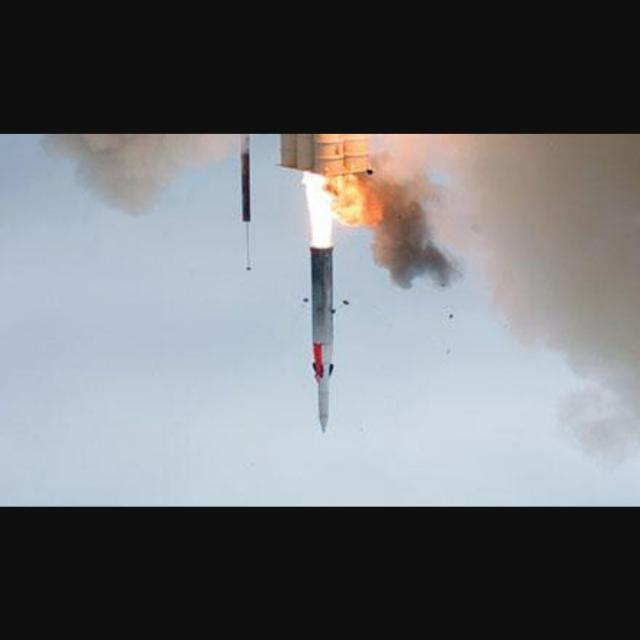missile: (308, 248, 332, 433)
